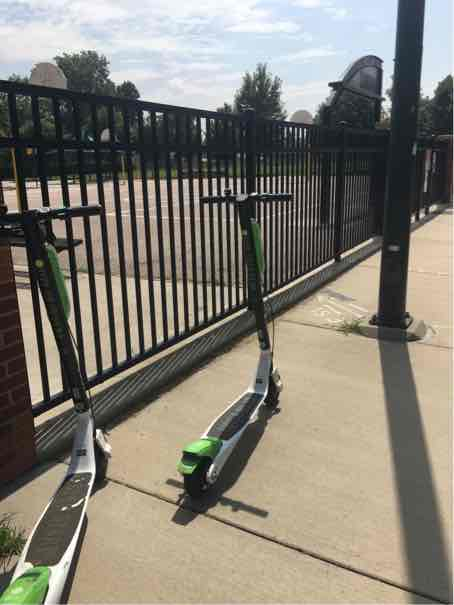scooter: (162, 176, 301, 520)
